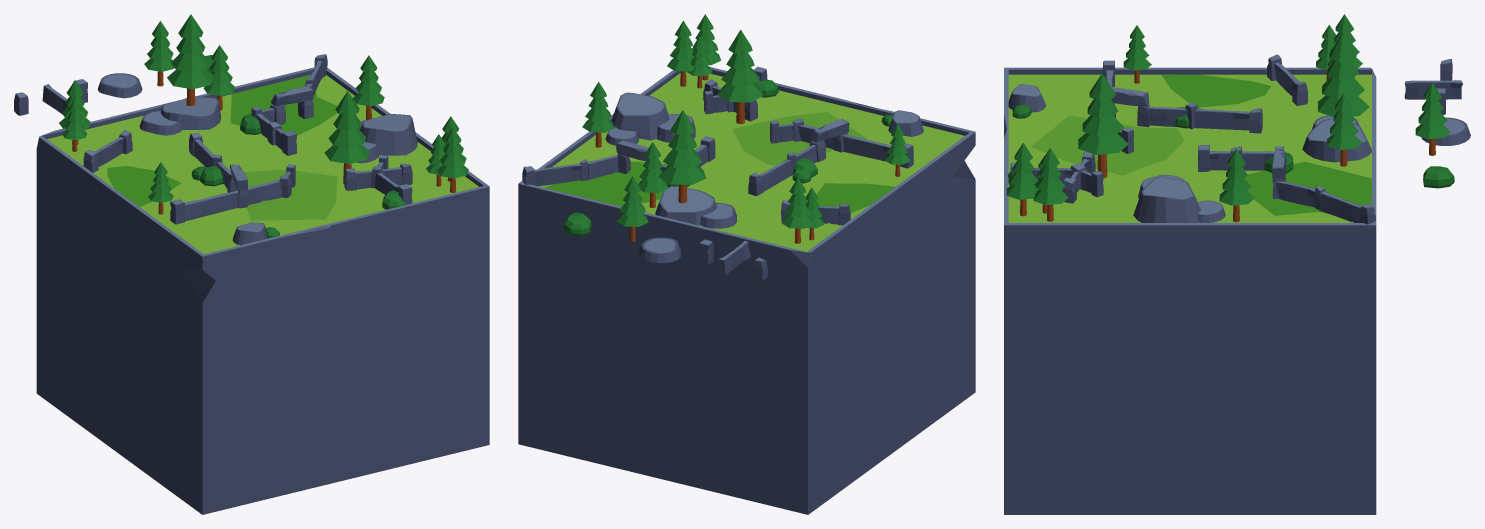
Rendered from Map1.glb.
3 views of the same model, side by side, from view 1: azimuth 30°, elevation 25°; view 2: azimuth 150°, elevation 25°; view 3: azimuth 270°, elevation 25° (orthographic). The views are drawn at different scales.
Visible parts, largest first — view 1: Plane.001-col, Ground-col, Plane.005, Plane.004, Plane.002, Plane.003, Wall.002-col, Big Rock.001-col, Big Rock-col, Circle.017, Cone.013, Cone.041 (+4 smaller); view 2: Plane.001-col, Ground-col, Plane.005, Plane.002, Plane.004, Plane.003, Big Rock.001-col, Wall.002-col, Circle.017, Circle.019, Wall.010-col, Wall.009-col (+9 smaller); view 3: Plane.001-col, Ground-col, Plane.005, Plane.004, Plane.002, Plane.003, Big Rock.001-col, Wall.009-col, Big Rock-col, Cone.041, Wall.004-col, Circle.019 (+8 smaller).
Part boxes in pixels (left/top/right/bottom): Plane.001-col: left=36, top=69, right=489, bottom=514; Ground-col: left=47, top=75, right=478, bottom=253; Plane.005: left=244, top=169, right=337, bottom=220; Plane.004: left=230, top=74, right=337, bottom=135; Plane.002: left=39, top=67, right=489, bottom=256; Plane.003: left=107, top=166, right=181, bottom=206; Wall.002-col: left=184, top=179, right=282, bottom=221; Big Rock.001-col: left=360, top=113, right=417, bottom=155; Big Rock-col: left=161, top=96, right=220, bottom=129; Circle.017: left=163, top=97, right=217, bottom=116; Cone.013: left=167, top=69, right=213, bottom=89; Cone.041: left=324, top=144, right=369, bottom=164; Plane.001-col: left=518, top=69, right=975, bottom=514; Ground-col: left=539, top=71, right=964, bottom=252; Plane.005: left=732, top=112, right=866, bottom=165; Plane.002: left=518, top=67, right=975, bottom=252; Plane.004: left=544, top=161, right=667, bottom=206; Plane.003: left=816, top=183, right=895, bottom=212; Big Rock.001-col: left=611, top=92, right=669, bottom=140; Wall.002-col: left=798, top=124, right=891, bottom=161; Circle.017: left=661, top=186, right=713, bottom=211; Circle.019: left=618, top=93, right=663, bottom=115; Wall.010-col: left=535, top=163, right=583, bottom=186; Wall.009-col: left=761, top=146, right=816, bottom=191; Plane.001-col: left=1004, top=69, right=1376, bottom=514; Ground-col: left=1008, top=74, right=1371, bottom=222; Plane.005: left=1031, top=115, right=1184, bottom=175; Plane.004: left=1244, top=161, right=1371, bottom=215; Plane.002: left=1004, top=67, right=1376, bottom=224; Plane.003: left=1162, top=74, right=1270, bottom=107; Big Rock.001-col: left=1133, top=176, right=1200, bottom=222; Wall.009-col: left=1149, top=108, right=1249, bottom=130; Big Rock-col: left=1302, top=118, right=1371, bottom=162; Cone.041: left=1078, top=133, right=1128, bottom=154; Wall.004-col: left=1210, top=151, right=1273, bottom=170; Circle.019: left=1143, top=177, right=1192, bottom=199.
Size of the model in its own units: 62.03 by 73.56 by 77.78.
